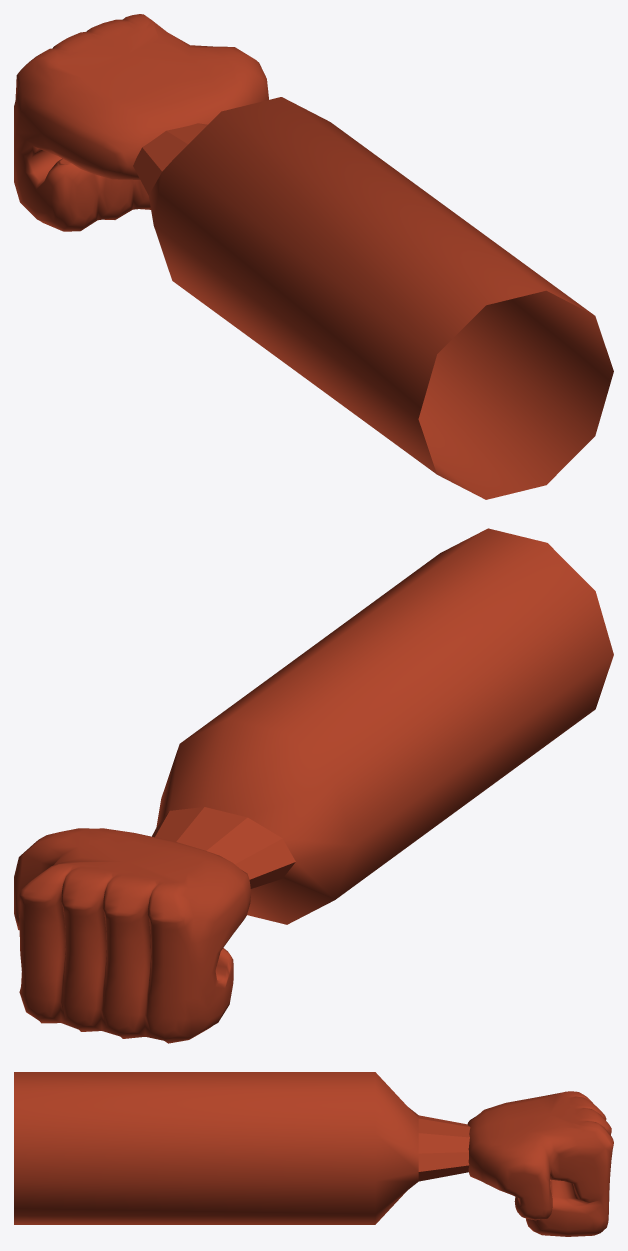
Rendered from hand.fbx.
3 renders of one model, top to bottom at view 1: azimuth 30°, elevation 25°; view 2: azimuth 150°, elevation 25°; view 3: azimuth 270°, elevation 25°, orthographic. The views are drawn at different scales.
Parts seen in each view (by area): view 1: Box007; view 2: Box007; view 3: Box007.
Part boxes in pixels (box(x1,y1,x2,y2)): Box007: box(14, 14, 613, 499); Box007: box(14, 528, 613, 1043); Box007: box(14, 1072, 613, 1236).
Size of the model in its own units: 82.86 by 70.84 by 287.
